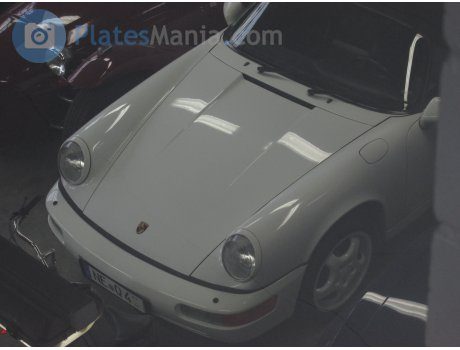License Plates: (89, 271, 121, 287)
